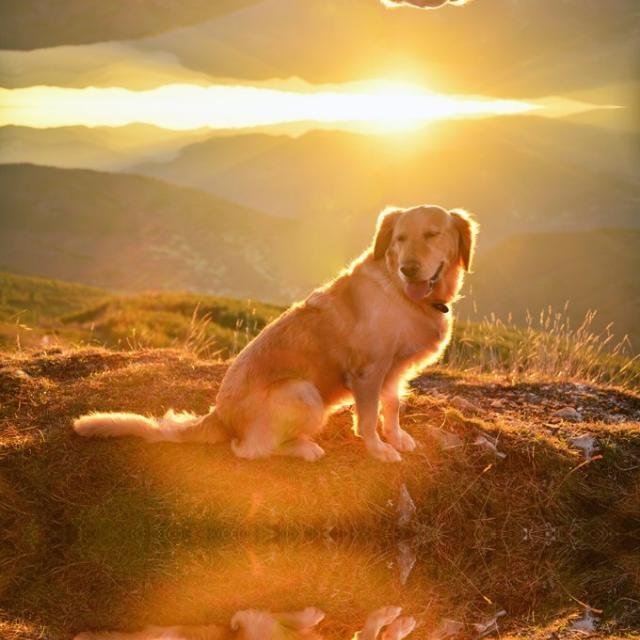dog: (202, 170, 492, 508), (201, 559, 492, 640), (201, 0, 492, 41)
